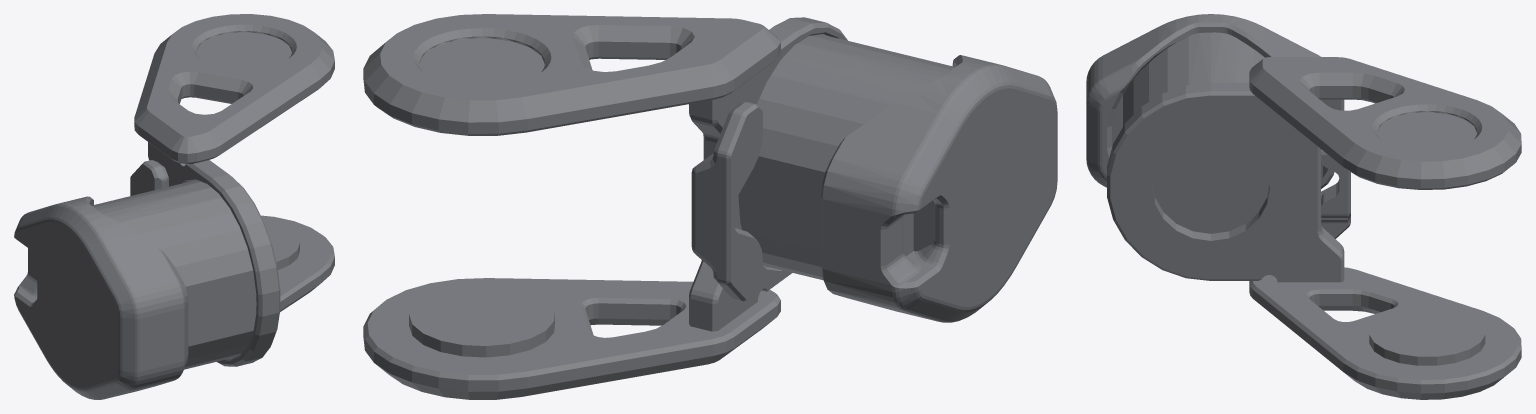
File: link_4__grey.glb
3 views of the same model, side by side, from view 1: azimuth 30°, elevation 25°; view 2: azimuth 150°, elevation 25°; view 3: azimuth 270°, elevation 25° (orthographic). The views are drawn at different scales.
Visible parts, largest first — view 1: link_4.STL; view 2: link_4.STL; view 3: link_4.STL.
Part boxes in pixels (x1,y1,x2,y2): link_4.STL: (14,14,334,399); link_4.STL: (363,14,1057,399); link_4.STL: (1086,14,1521,399).
Size of the model in its own units: 0.1304 by 0.079 by 0.1308.
1 material, 1 textured.
